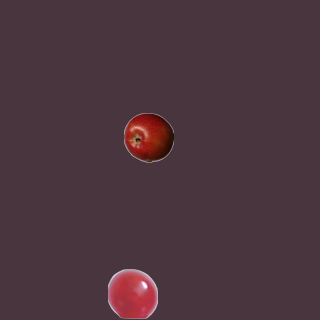Apple Braeburn: (123, 112, 173, 162)
Redcurrant: (107, 268, 157, 318)
